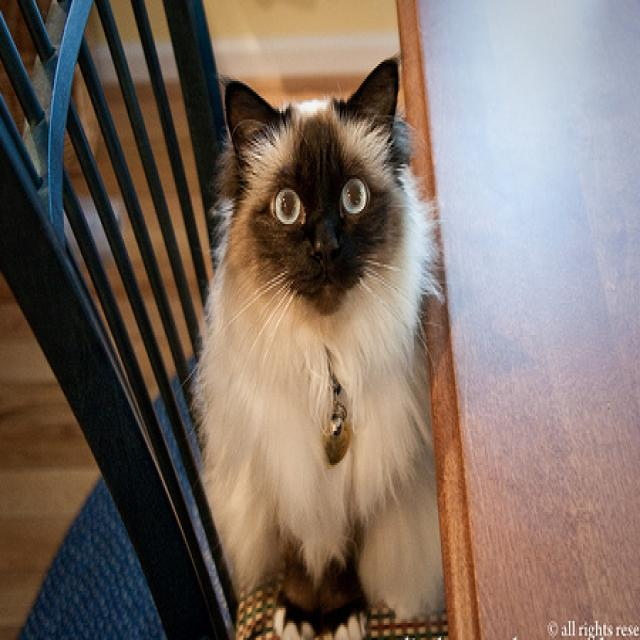Birman: (191, 47, 446, 638)
